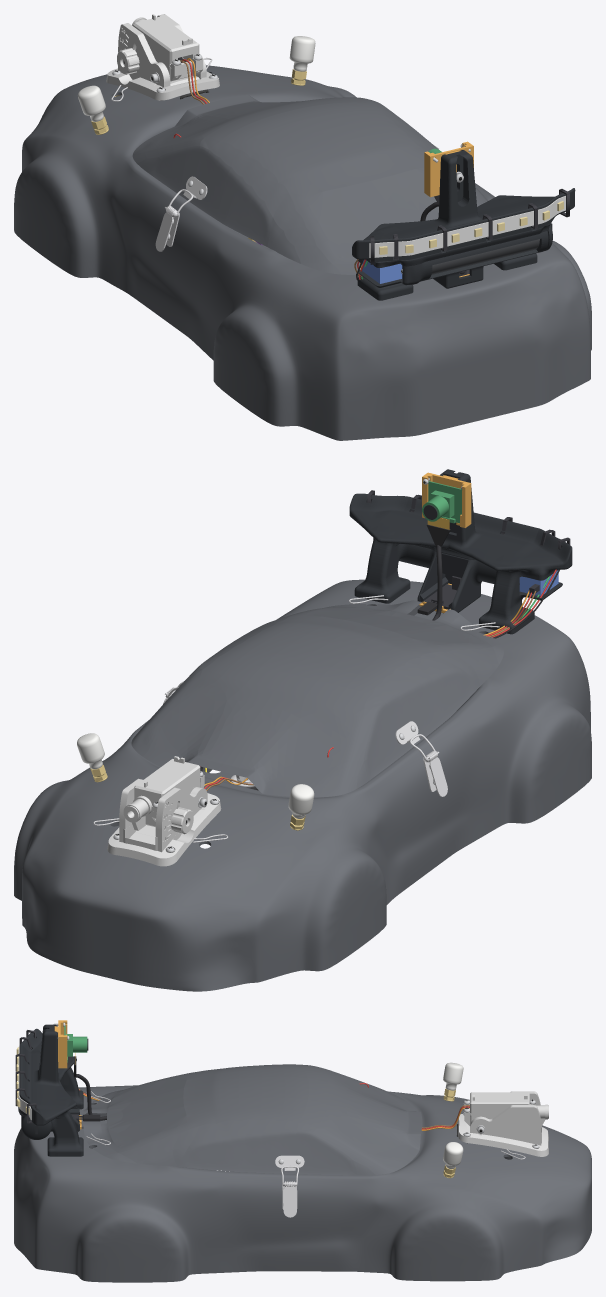
Rendered from hsp_F.glb.
3 views of the same model, one above another, from view 1: azimuth 30°, elevation 25°; view 2: azimuth 150°, elevation 25°; view 3: azimuth 270°, elevation 25° (orthographic). The views are drawn at different scales.
Parts seen in each view (by area): view 1: n103, n102, n140, n77, n150, n76, n130, n138, n154, n53, n39, n41 (+2 smaller); view 2: n103, n102, n140, n77, n76, n146, n138, n53, n41, n39; view 3: n103, n102, n140, n77, n76, n51, n138, n141, n39, n41, n154, n146.
Part boxes in pixels (bbox=[...]): n103: bbox=[14, 65, 591, 440]; n102: bbox=[132, 95, 487, 274]; n140: bbox=[352, 150, 575, 300]; n77: bbox=[106, 14, 219, 100]; n150: bbox=[369, 196, 565, 257]; n76: bbox=[132, 14, 203, 69]; n130: bbox=[431, 239, 539, 274]; n138: bbox=[424, 141, 473, 197]; n154: bbox=[370, 189, 569, 264]; n53: bbox=[155, 189, 193, 251]; n39: bbox=[78, 85, 105, 121]; n41: bbox=[289, 36, 315, 71]; n103: bbox=[14, 579, 591, 991]; n102: bbox=[131, 600, 503, 797]; n140: bbox=[349, 469, 572, 634]; n77: bbox=[107, 778, 221, 866]; n76: bbox=[123, 756, 204, 816]; n146: bbox=[422, 481, 461, 523]; n138: bbox=[422, 472, 471, 527]; n53: bbox=[410, 734, 447, 796]; n41: bbox=[77, 733, 104, 769]; n39: bbox=[288, 784, 314, 818]; n103: bbox=[14, 1085, 591, 1282]; n102: bbox=[81, 1064, 422, 1175]; n140: bbox=[18, 1024, 83, 1156]; n77: bbox=[458, 1091, 548, 1156]; n76: bbox=[464, 1092, 548, 1115]; n51: bbox=[281, 1166, 298, 1217]; n138: bbox=[54, 1020, 67, 1068]; n141: bbox=[21, 1116, 51, 1139]; n39: bbox=[443, 1062, 463, 1090]; n41: bbox=[443, 1142, 463, 1169]; n154: bbox=[15, 1030, 36, 1123]; n146: bbox=[64, 1025, 87, 1062].
Bounding box in the file's own units: 0.239 × 0.1754 × 0.4737.
